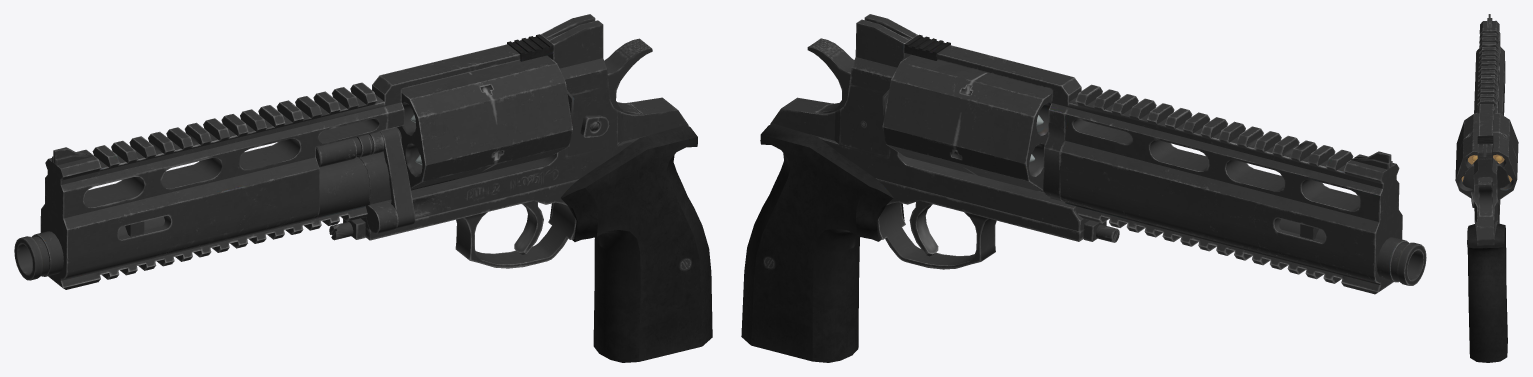
The model's file is rsh12Revolver.fbx.
The picture shows the model from 3 angles, left to right: view 1: azimuth 30°, elevation 25°; view 2: azimuth 150°, elevation 25°; view 3: azimuth 270°, elevation 25°; orthographic projection. The views are drawn at different scales.
Visible parts, largest first — view 1: 1_l, 9_l, 6_l, 7_l, 2_l, 5_l, 11_l, 4_l, 3_l, 8_l, 17_l, 12_l; view 2: 1_l, 9_l, 6_l, 7_l, 2_l, 11_l, 5_l, 3_l, 8_l, 17_l, 12_l; view 3: 9_l, 6_l, 7_l, 2_l, 1_l, 5_l, 8_l, 10_l.005, 10_l.001.
Boxes of the visible parts, x1,y1,x2,y2 form: 1_l: (40,94,387,279); 9_l: (550,125,712,362); 6_l: (397,55,572,190); 7_l: (361,14,688,229); 2_l: (45,82,377,289); 5_l: (359,34,553,233); 11_l: (365,179,578,268); 4_l: (316,127,415,228); 3_l: (14,216,164,280); 8_l: (604,38,652,114); 17_l: (514,201,543,254); 12_l: (329,122,599,240); 1_l: (1059,97,1402,283); 9_l: (741,123,904,362); 6_l: (882,54,1051,192); 7_l: (770,14,1088,231); 2_l: (1065,84,1399,294); 11_l: (876,178,1083,269); 5_l: (904,34,1081,201); 3_l: (1279,219,1426,285); 8_l: (807,38,854,112); 17_l: (909,201,938,256); 12_l: (1083,220,1119,242); 9_l: (1467,223,1507,362); 6_l: (1455,113,1518,200); 7_l: (1462,144,1510,245); 2_l: (1477,18,1499,106); 1_l: (1474,32,1505,115); 5_l: (1477,104,1495,148); 8_l: (1478,177,1492,216); 10_l.005: (1493,154,1504,163); 10_l.001: (1468,155,1477,164).
Bounding box in the file's own units: 342 × 164 × 51.53.
6 materials, 6 textured.
